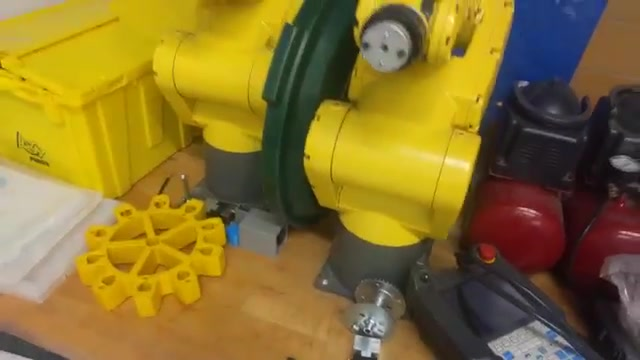gear: (74, 187, 228, 318)
